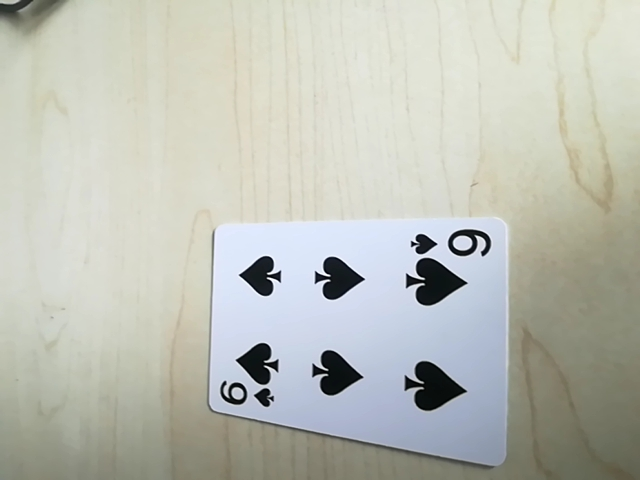ht 6: (407, 223, 497, 260), (215, 381, 280, 412)
